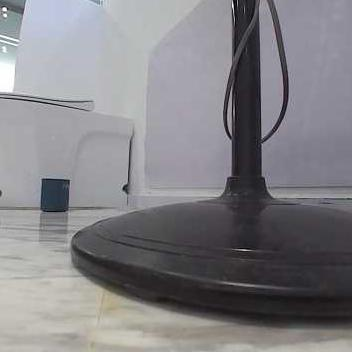chair_base: (69, 161, 350, 320)
plastic_water_cup: (38, 174, 71, 212)
toilet: (0, 89, 136, 210)
wire: (219, 1, 290, 141)
